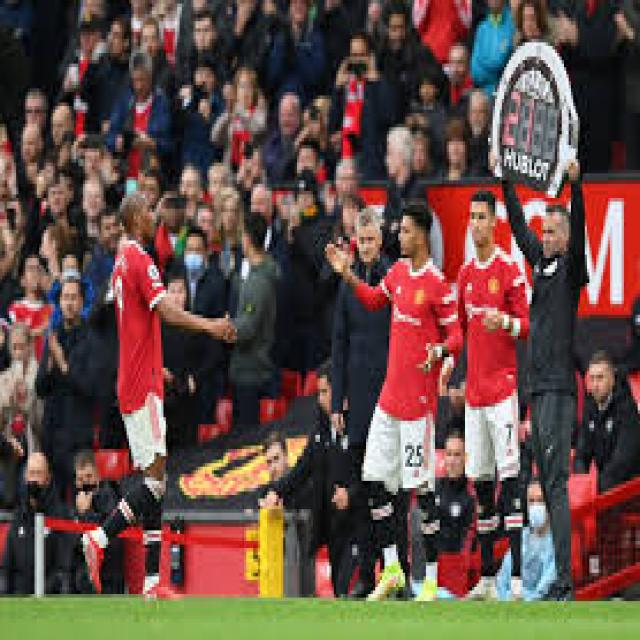substitution: (489, 31, 583, 206)
